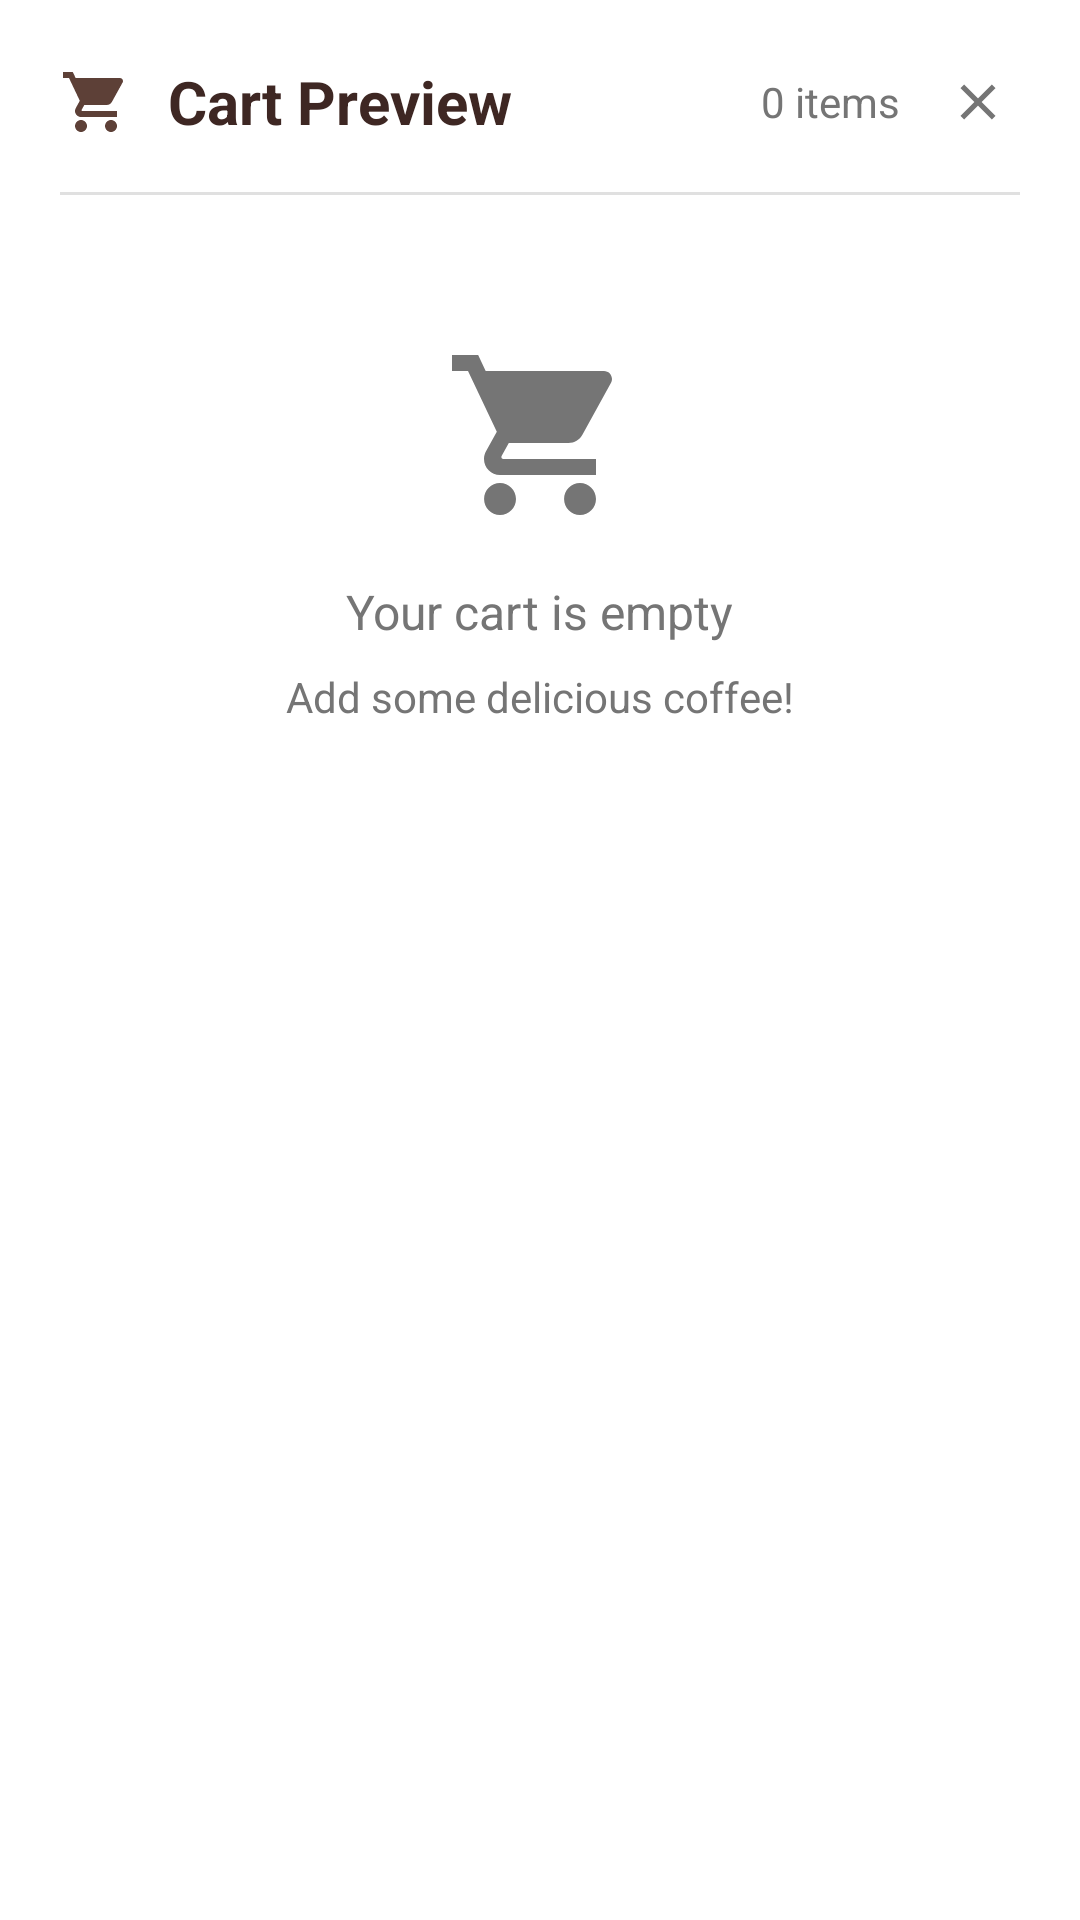

Icon click points for this 1080w x 1920h phone screenshot, format (x,y):
Close: (978,102)
